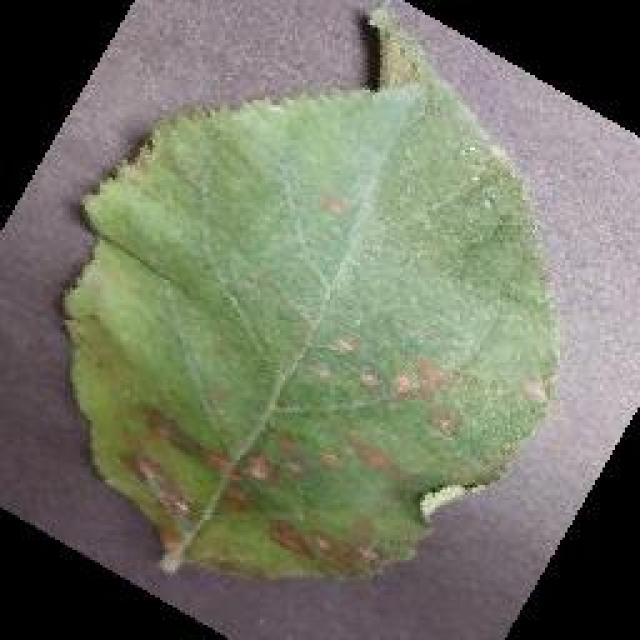Apple___Cedar_apple_rust: (54, 1, 563, 588)
